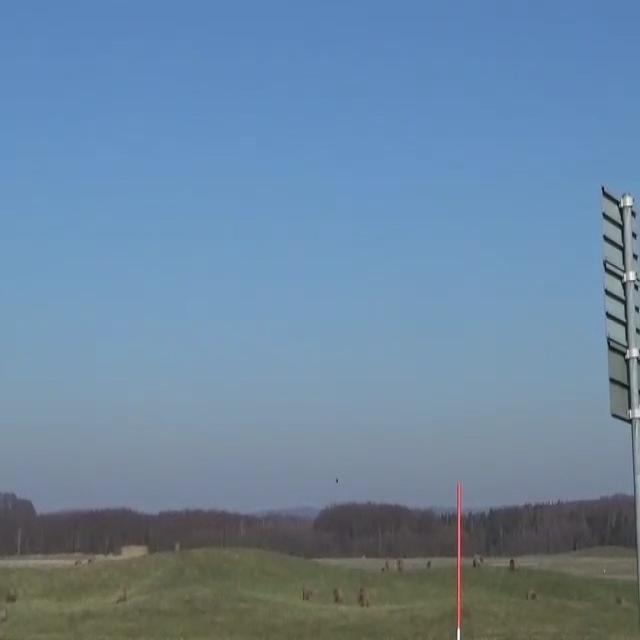bird: (332, 476, 343, 485)
